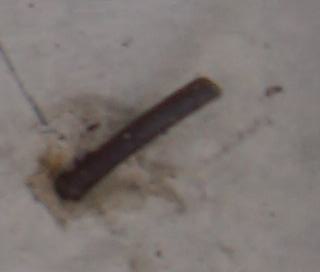Exposed reinforcement: (54, 77, 223, 201)
